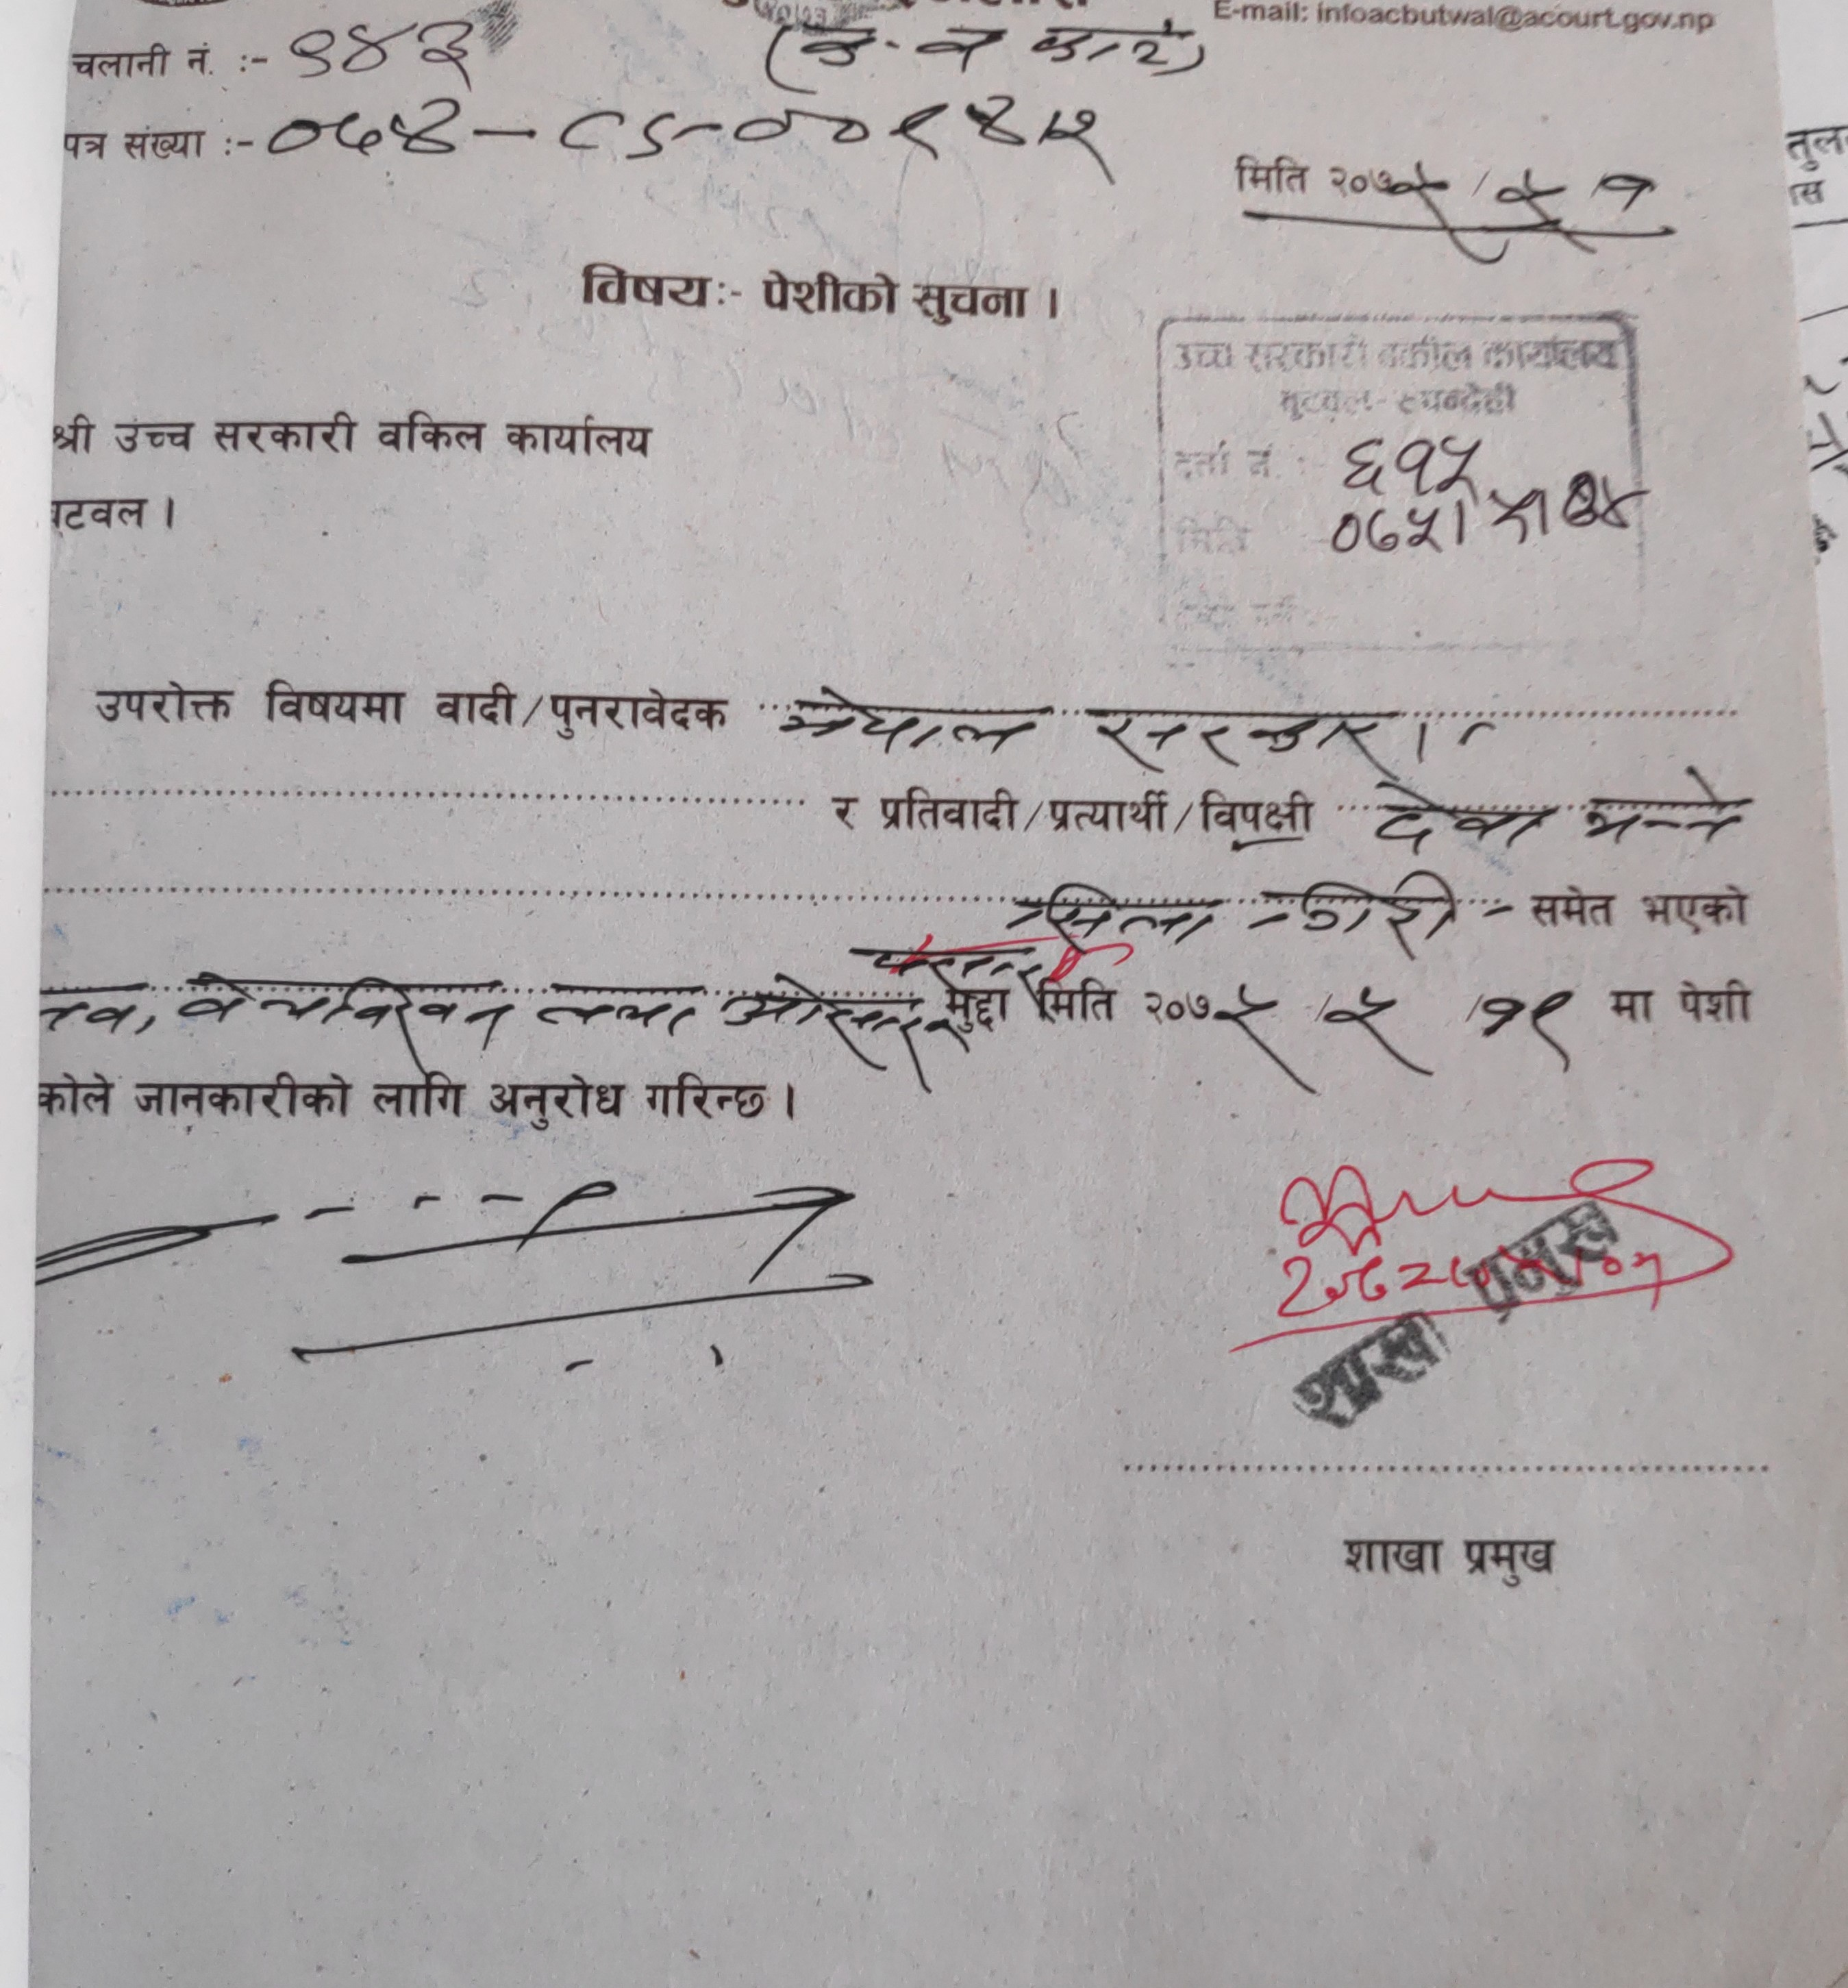text: (266, 89, 1125, 181), (174, 956, 518, 1070), (721, 961, 931, 1095), (797, 16, 1195, 83), (1082, 697, 1405, 775), (778, 686, 1051, 758), (1261, 867, 1468, 958), (1579, 765, 1758, 857), (1365, 775, 1556, 853), (1009, 879, 1218, 947), (1209, 982, 1317, 1105), (530, 971, 705, 1044), (1320, 978, 1436, 1081), (285, 19, 478, 76), (1337, 426, 1483, 499), (1323, 492, 1449, 573), (1478, 985, 1584, 1081), (1558, 459, 1660, 551), (1483, 483, 1537, 547)
